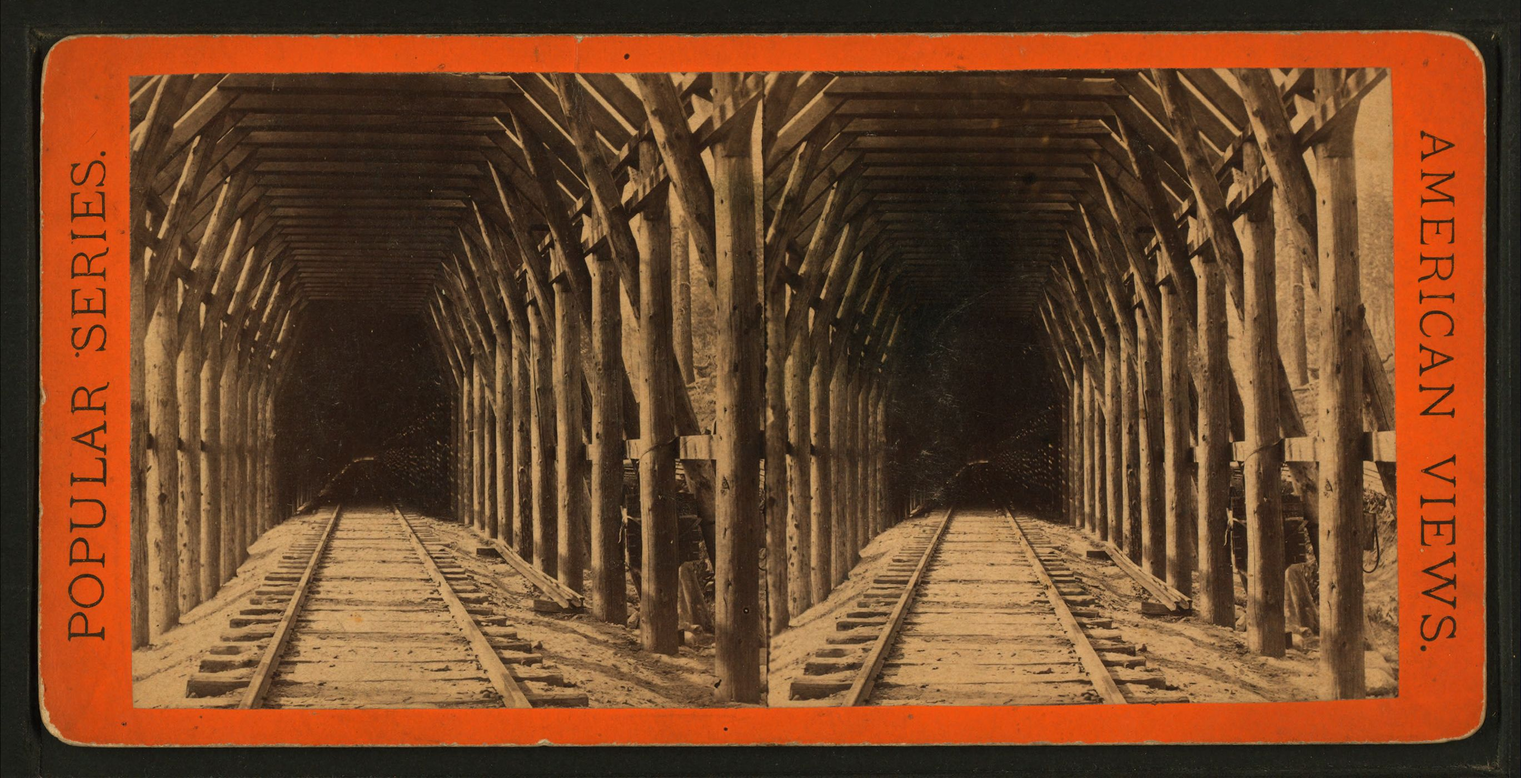half_image: (764, 69, 1398, 707), (131, 73, 767, 707)
